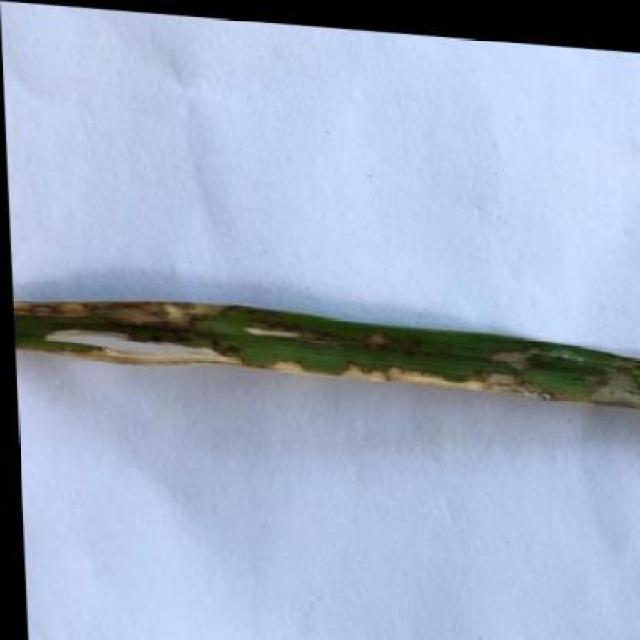Brown_Spot: (9, 280, 640, 412)
